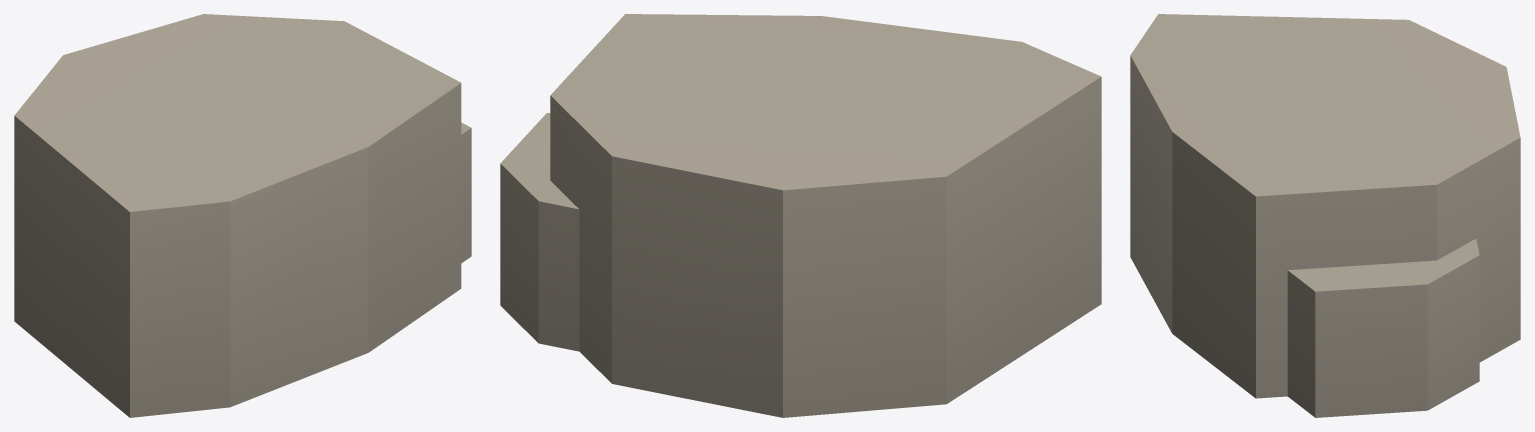
The model's file is republic_outcrop_lod0.glb.
3 views of the same model, side by side, from view 1: azimuth 30°, elevation 25°; view 2: azimuth 150°, elevation 25°; view 3: azimuth 270°, elevation 25° (orthographic). The views are drawn at different scales.
Parts seen in each view (by area): view 1: GEO-Arch_republic_outcrop_LOD0; view 2: GEO-Arch_republic_outcrop_LOD0; view 3: GEO-Arch_republic_outcrop_LOD0.
Boxes of the visible parts, x1=… form: GEO-Arch_republic_outcrop_LOD0: x1=14, y1=14, x2=471, y2=417; GEO-Arch_republic_outcrop_LOD0: x1=500, y1=14, x2=1101, y2=417; GEO-Arch_republic_outcrop_LOD0: x1=1130, y1=14, x2=1520, y2=417.
Bounding box in the file's own units: 3.43 × 1.6 × 2.8.
